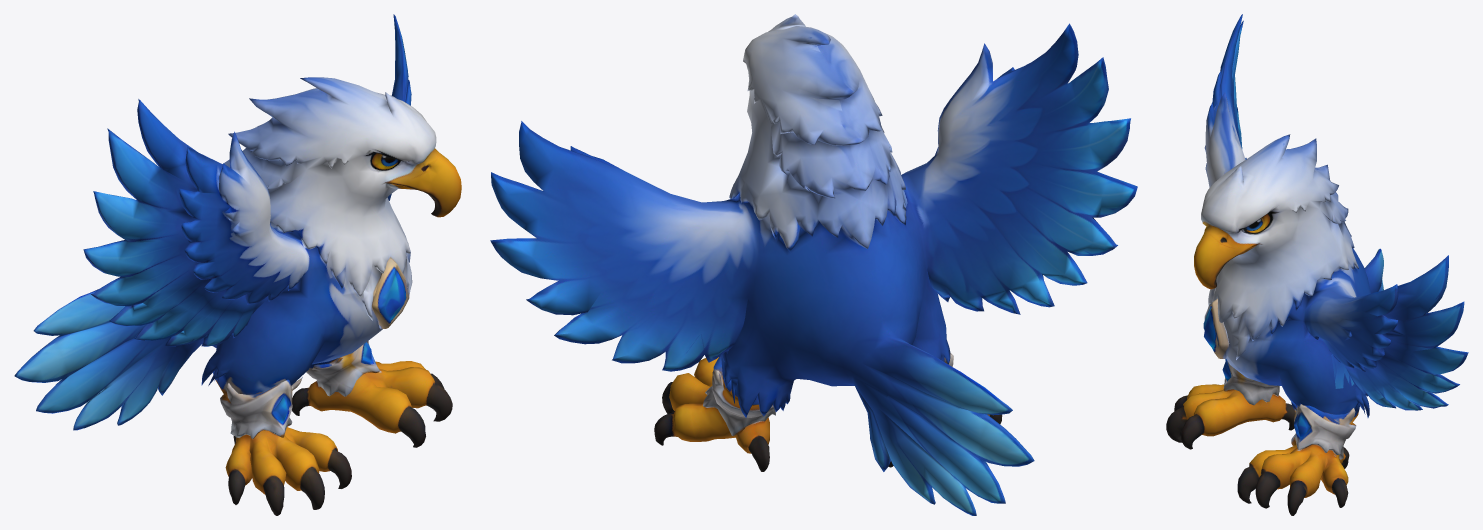
The model's file is ravenclaw-3.glb.
3 views of the same model, side by side, from view 1: azimuth 30°, elevation 25°; view 2: azimuth 150°, elevation 25°; view 3: azimuth 270°, elevation 25° (orthographic). The views are drawn at different scales.
Parts seen in each view (by area): view 1: tripo_node_68489bcf-ae93-47cf-8269-04d2c4f3e017; view 2: tripo_node_68489bcf-ae93-47cf-8269-04d2c4f3e017; view 3: tripo_node_68489bcf-ae93-47cf-8269-04d2c4f3e017.
Part boxes in pixels (<box>): tripo_node_68489bcf-ae93-47cf-8269-04d2c4f3e017: <box>14,14,461,515</box>; tripo_node_68489bcf-ae93-47cf-8269-04d2c4f3e017: <box>490,14,1137,515</box>; tripo_node_68489bcf-ae93-47cf-8269-04d2c4f3e017: <box>1166,14,1468,515</box>.
Bounding box in the file's own units: 0.998 × 0.8926 × 0.6621.
Materials: 1 (1 with a texture image).
